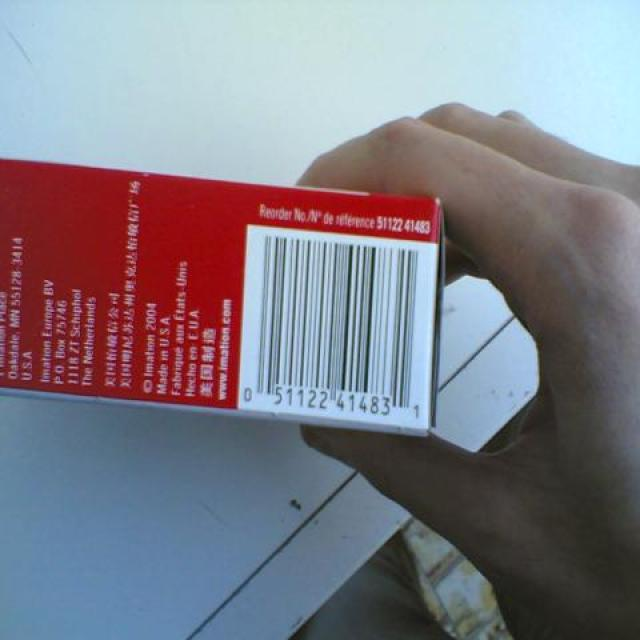Barcode: (237, 224, 440, 436)
